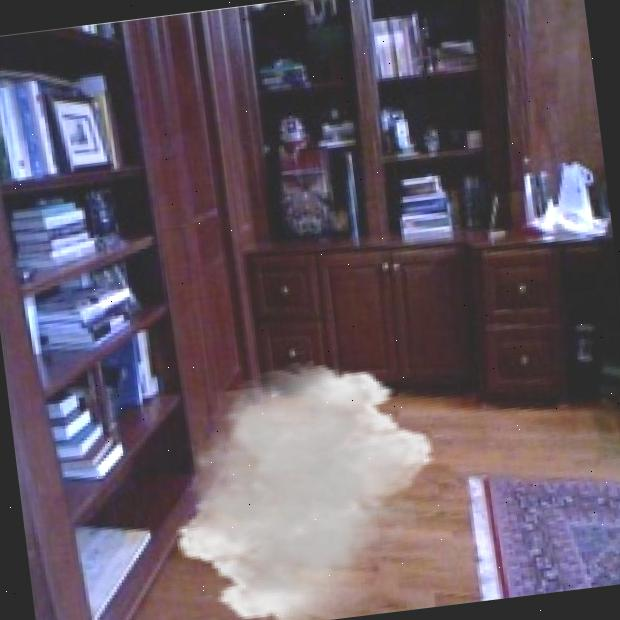smoke: (154, 347, 456, 620)
